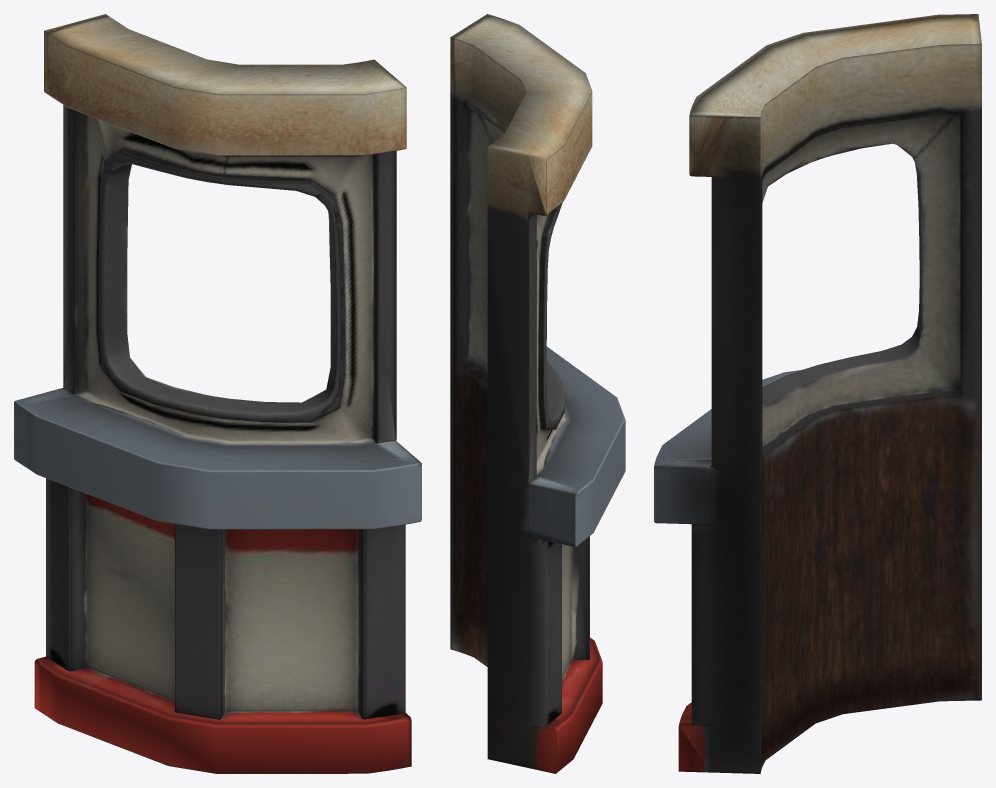
File: D_CurvedWindowFL.fbx
The picture shows the model from 3 angles, left to right: view 1: azimuth 30°, elevation 25°; view 2: azimuth 150°, elevation 25°; view 3: azimuth 270°, elevation 25°; orthographic projection. The views are drawn at different scales.
Visible parts, largest first — view 1: pCube53; view 2: pCube53; view 3: pCube53.
Part boxes in pixels (left/top/right/bottom): pCube53: left=14, top=14, right=421, bottom=773; pCube53: left=450, top=14, right=625, bottom=773; pCube53: left=654, top=14, right=981, bottom=773.
Bounding box in the file's own units: 2.07 × 5.35 × 2.42.
1 material, 1 textured.
